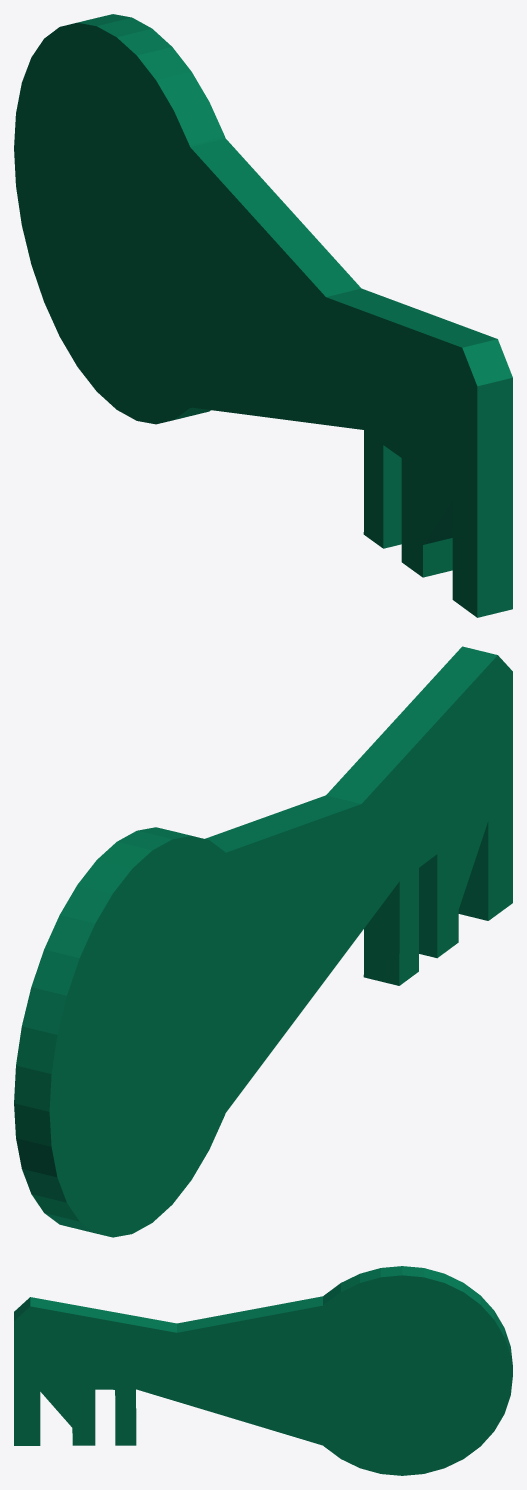
File: keyA.fbx
3 views of the same model, one above another, from view 1: azimuth 30°, elevation 25°; view 2: azimuth 150°, elevation 25°; view 3: azimuth 270°, elevation 25° (orthographic). The views are drawn at different scales.
Visible parts, largest first — view 1: Cylinder; view 2: Cylinder; view 3: Cylinder.
Part boxes in pixels (box(x1,y1,x2,y2)): Cylinder: box(14, 14, 512, 617); Cylinder: box(14, 646, 512, 1237); Cylinder: box(14, 1266, 512, 1475).
Size of the model in its own units: 10 by 100 by 225.
